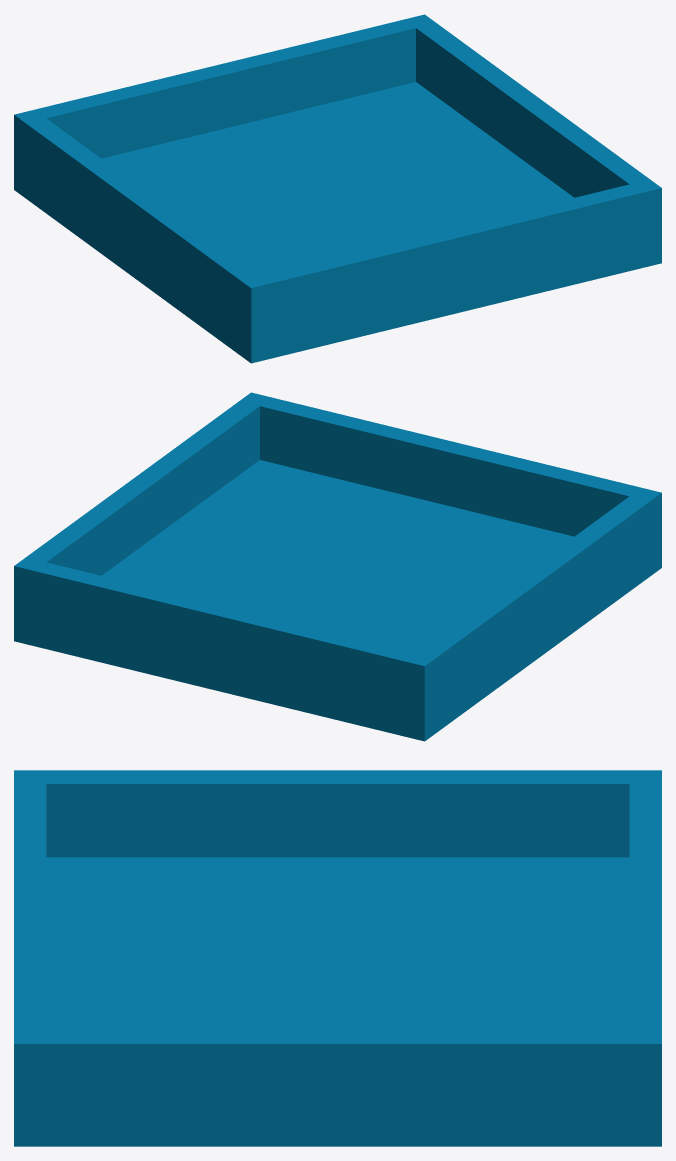
Rendered from BlueRoof_4Edges.glb.
3 renders of one model, top to bottom at view 1: azimuth 30°, elevation 25°; view 2: azimuth 150°, elevation 25°; view 3: azimuth 270°, elevation 25°, orthographic. The views are drawn at different scales.
Parts seen in each view (by area): view 1: roof_flat_4Edges_blue; view 2: roof_flat_4Edges_blue; view 3: roof_flat_4Edges_blue.
Part boxes in pixels (x1=…): roof_flat_4Edges_blue: x1=14, y1=14, x2=661, y2=363; roof_flat_4Edges_blue: x1=14, y1=392, x2=661, y2=741; roof_flat_4Edges_blue: x1=14, y1=770, x2=661, y2=1146.
Size of what is drawn, in the model's own units: 4 by 0.7 by 4.
Materials: 1 (1 with a texture image).
